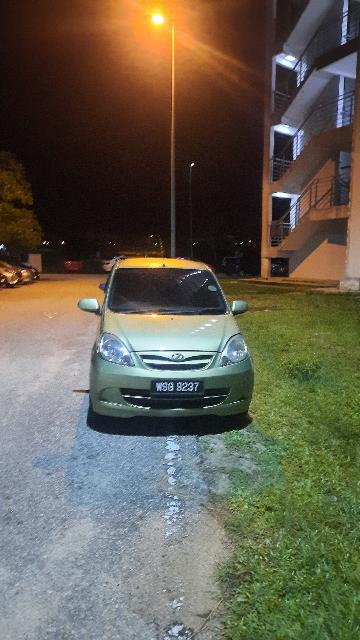License_Plate: (153, 381, 205, 398)
car: (76, 260, 253, 427)
